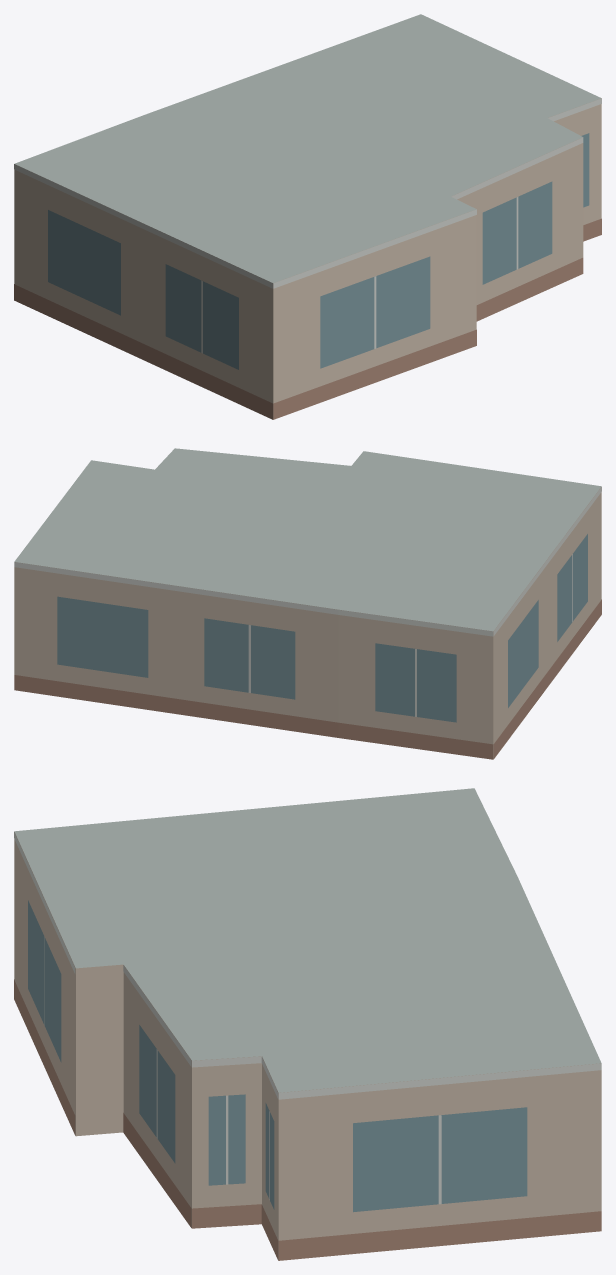
Rendered from survey-upis-33041394.glb.
3 views of the same model, one above another, from view 1: azimuth 30°, elevation 25°; view 2: azimuth 150°, elevation 25°; view 3: azimuth 270°, elevation 25° (orthographic). The views are drawn at different scales.
Parts seen in each view (by area): view 1: survey-upis-33041394.tmp; view 2: survey-upis-33041394.tmp; view 3: survey-upis-33041394.tmp.
Part boxes in pixels (<box>): survey-upis-33041394.tmp: <box>14,14,601,419</box>; survey-upis-33041394.tmp: <box>14,448,601,759</box>; survey-upis-33041394.tmp: <box>14,788,601,1260</box>.
Bounding box in the file's own units: 11.88 × 3.05 × 9.68.
